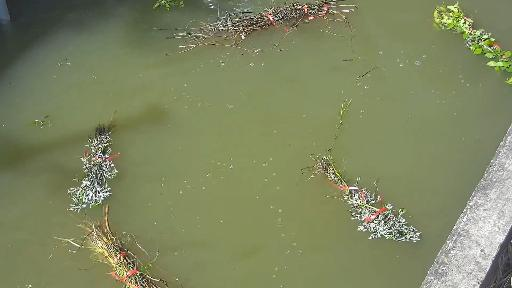twig: (315, 98, 427, 244), (166, 0, 364, 61), (64, 205, 174, 288), (60, 96, 123, 211), (437, 3, 512, 93), (144, 0, 189, 14)
